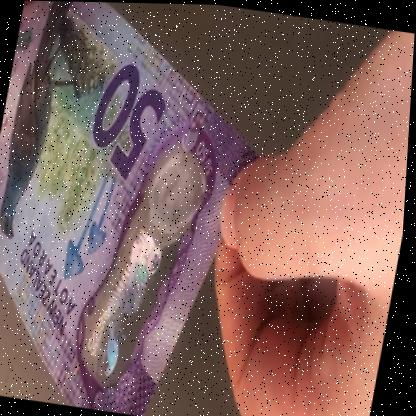50B: (83, 145, 209, 392)
